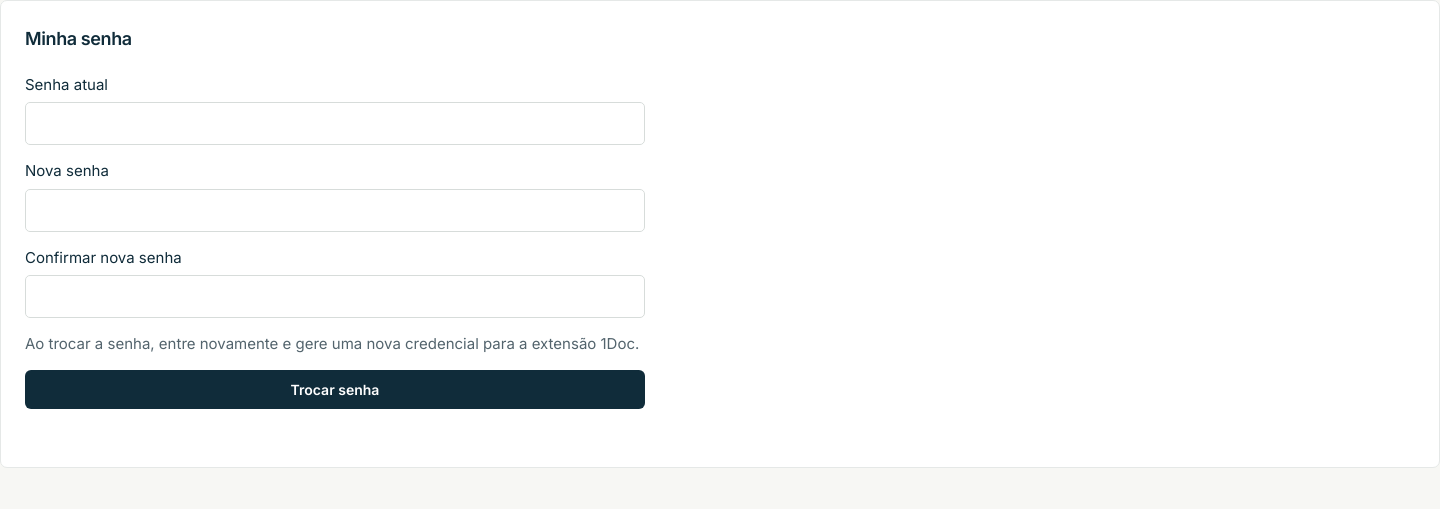
exige que a confirmação coincida antes de trocar a senha
This screenshot has width=1440, height=509.
Type "Senha atual fictícia" into the password field labelled "Senha atual". click: (335, 124)
box: [25, 102, 645, 145]
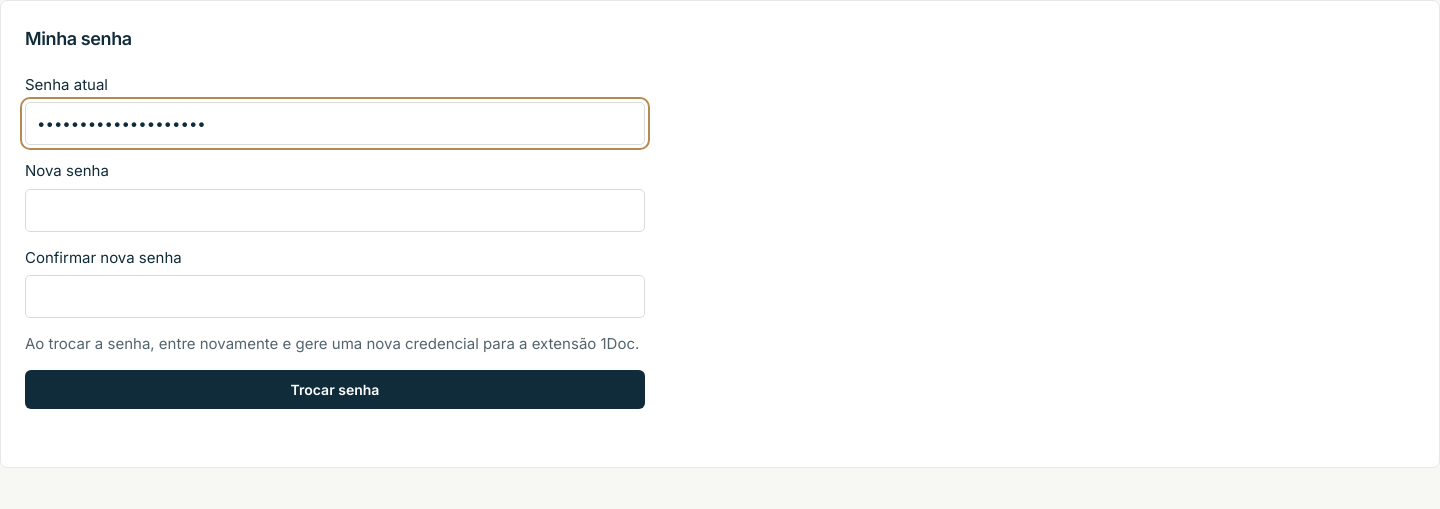
Type "Senha nova fictícia" into the password field labelled "Nova senha". click: (335, 210)
box: [25, 189, 645, 232]
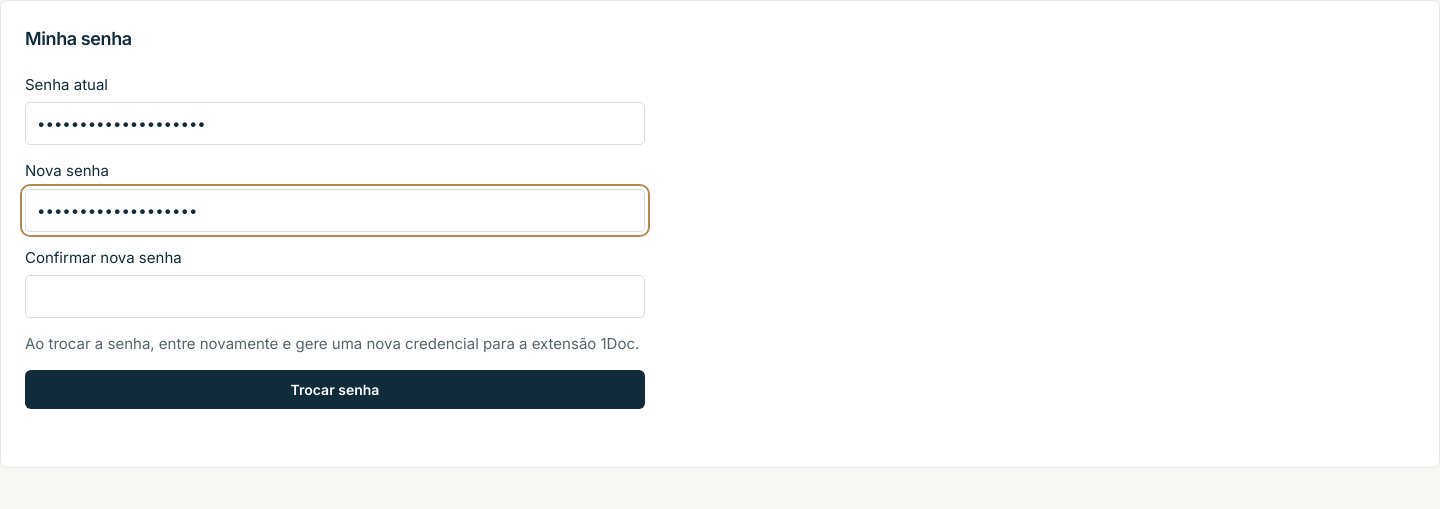
Type "Outra senha fictícia" into the password field labelled "Confirmar nova senha". click: (335, 297)
box: [25, 275, 645, 318]
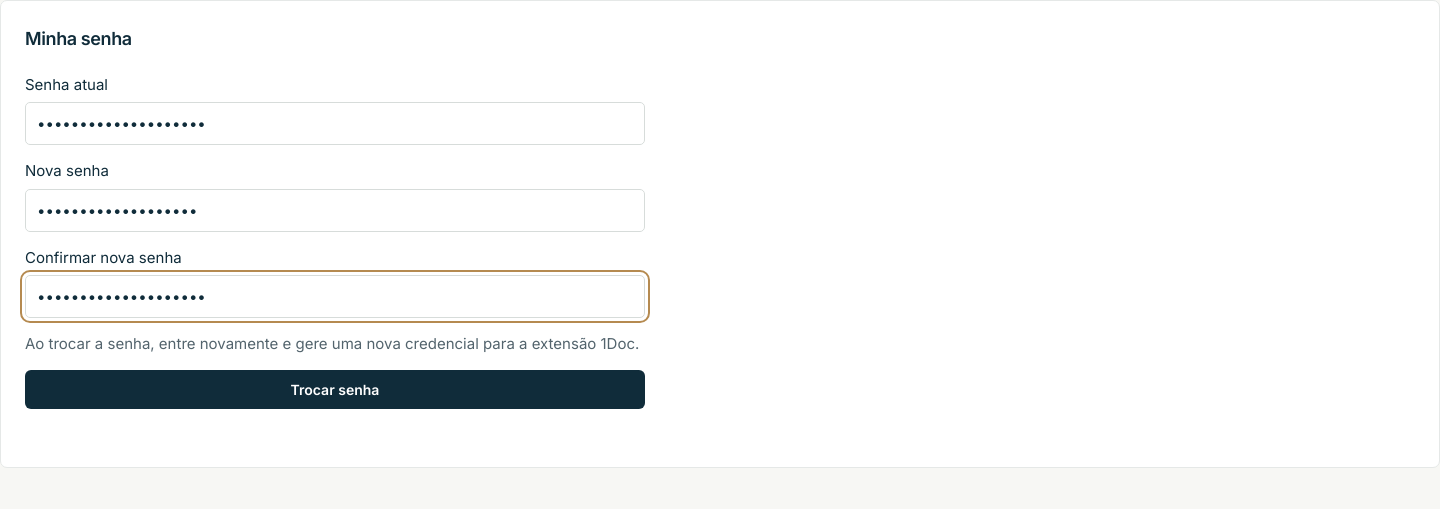
Click the button "Trocar senha". click: (335, 389)
box: [25, 370, 645, 409]
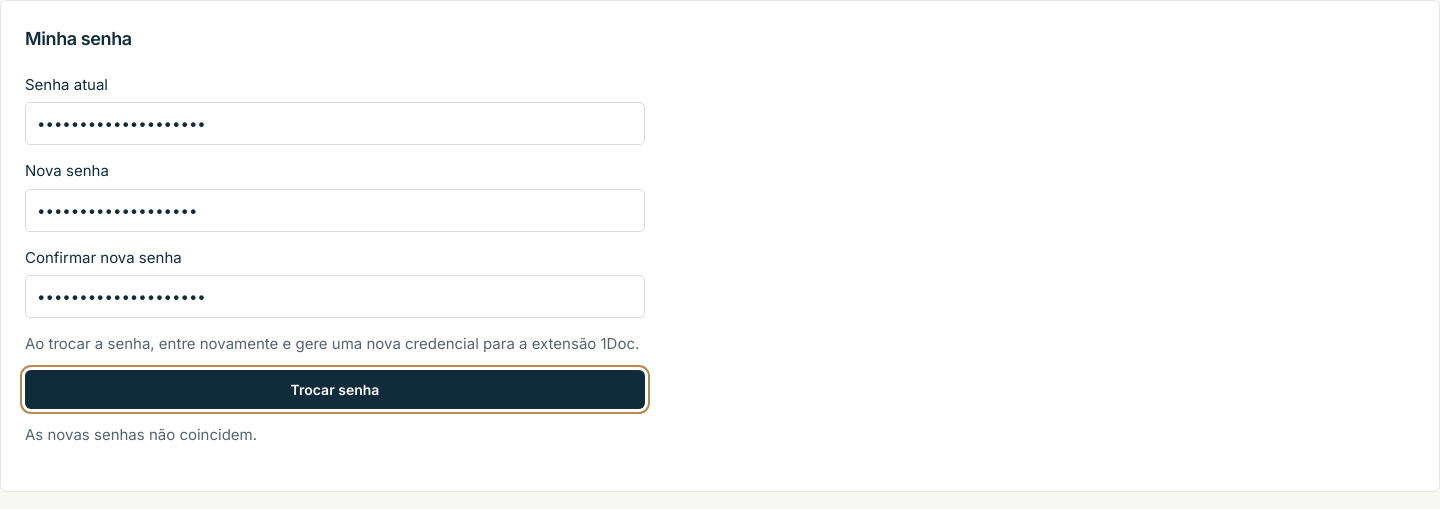
Result: the text "As novas senhas não coincidem." is shown at [25, 425, 257, 444]
